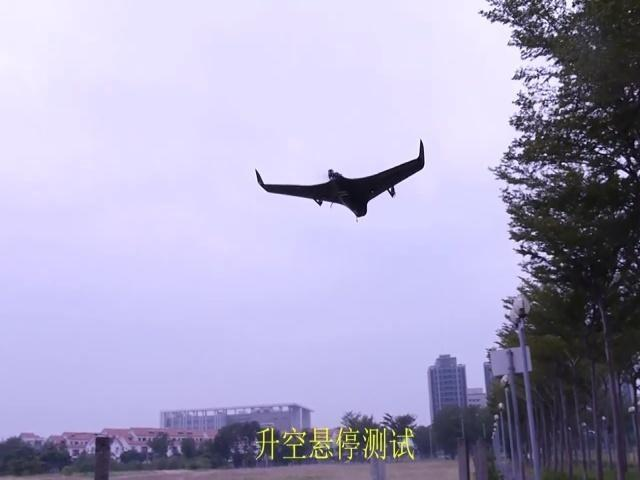Airplane: (254, 138, 425, 222)
